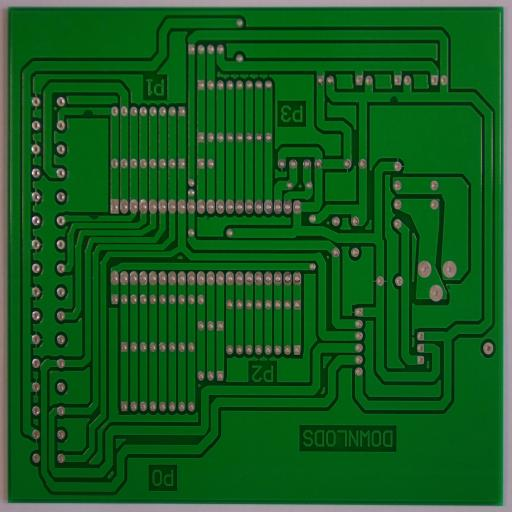mouse_bite: (79, 104, 96, 119), (386, 91, 400, 105), (86, 211, 101, 222)
